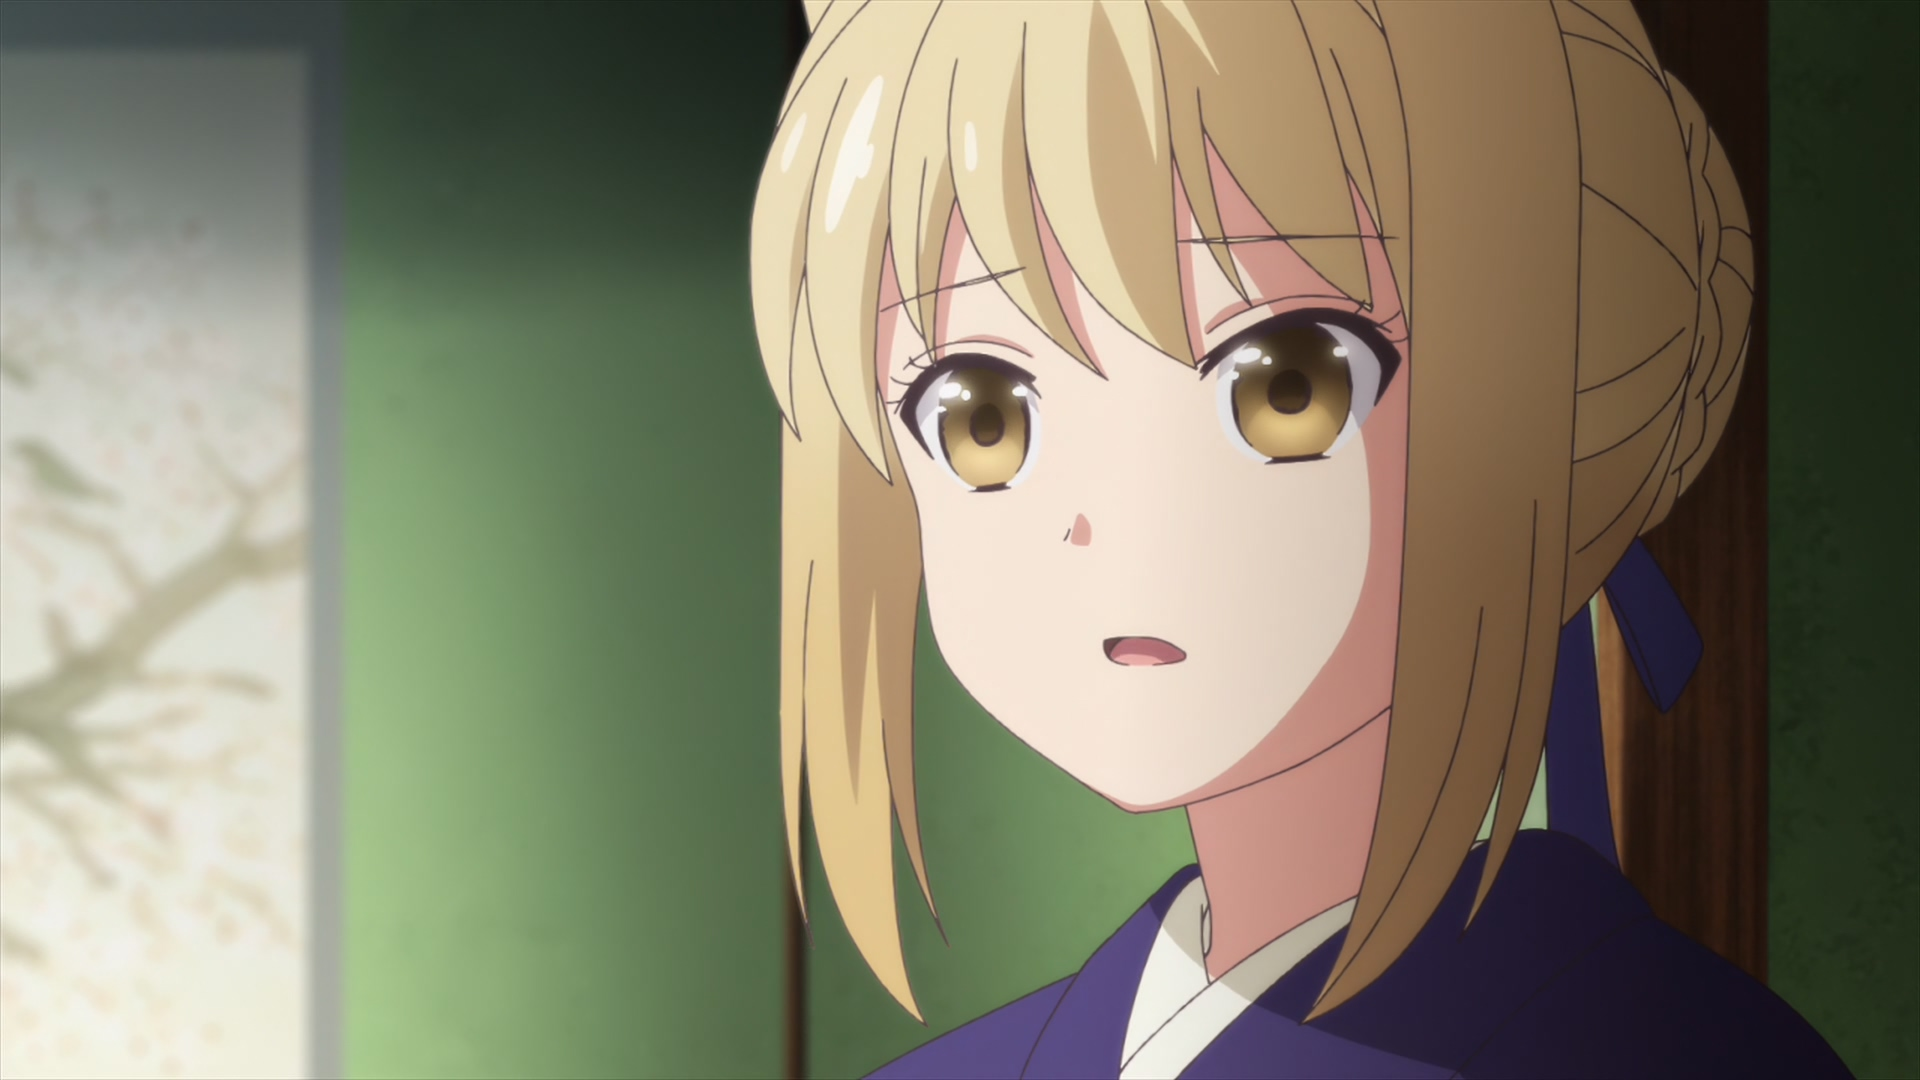桐: (749, 1, 1851, 1080)
